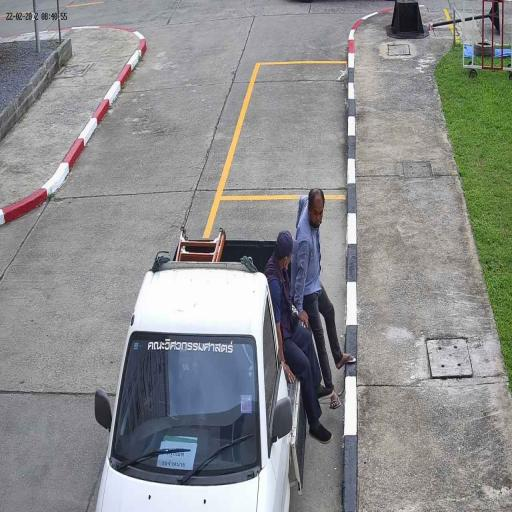car: (96, 233, 316, 512)
